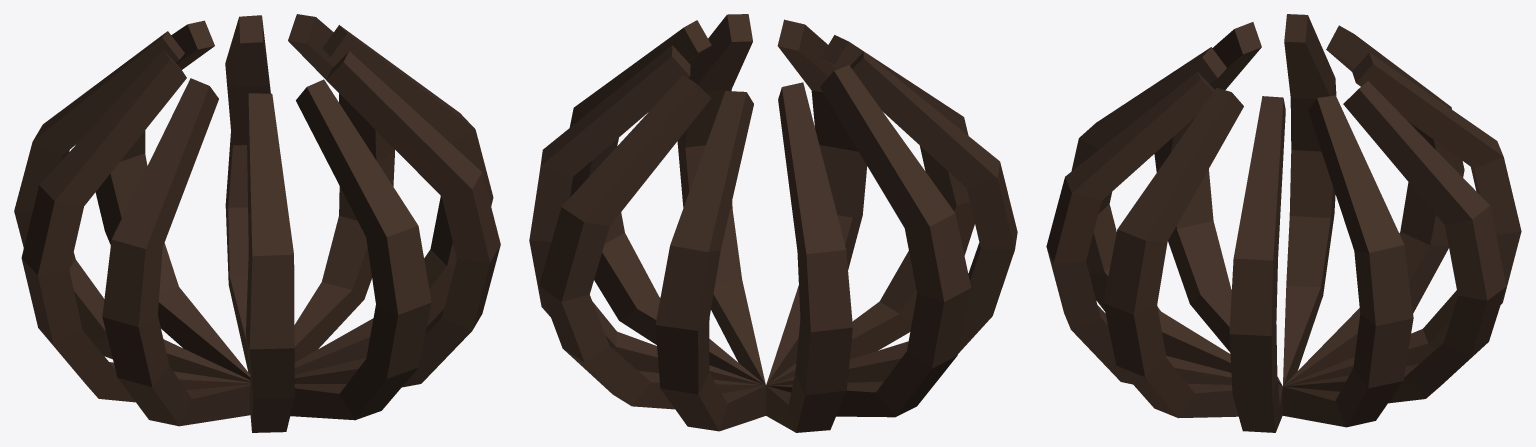
The model's file is Plant_20.fbx.
3 views of the same model, side by side, from view 1: azimuth 30°, elevation 25°; view 2: azimuth 150°, elevation 25°; view 3: azimuth 270°, elevation 25° (orthographic). The views are drawn at different scales.
Visible parts, largest first — view 1: Plant_20; view 2: Plant_20; view 3: Plant_20.
Part boxes in pixels (<box>): Plant_20: <box>14,14,500,432</box>; Plant_20: <box>529,14,1017,432</box>; Plant_20: <box>1046,14,1521,432</box>.
Size of the model in its own units: 0.3941 by 0.3326 by 0.3951.
